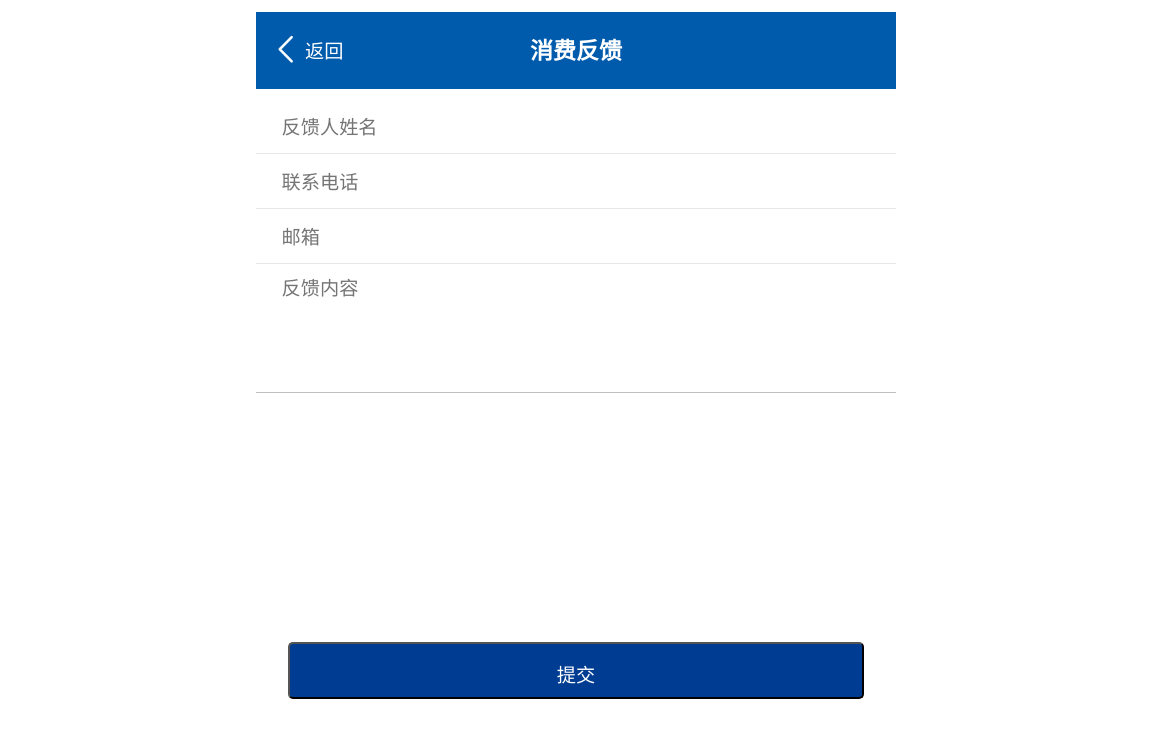
FeedbackPage › opens the success dialog after a valid submit
Check: the text "反馈成功" is not shown
Type "张三" into the field with placeholder "反馈人姓名" at (566, 126), box x1=256 y1=98 x2=877 y2=153
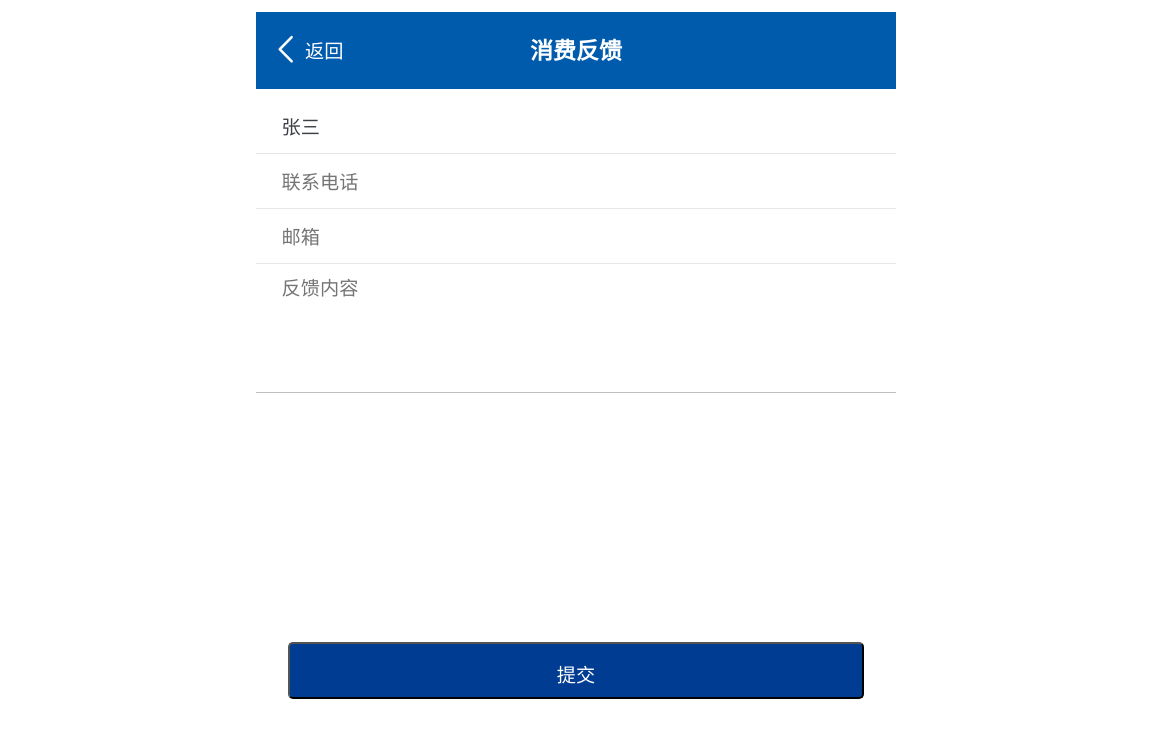
Type "13800000000" into the field with placeholder "联系电话" at (566, 181), box x1=256 y1=153 x2=877 y2=208
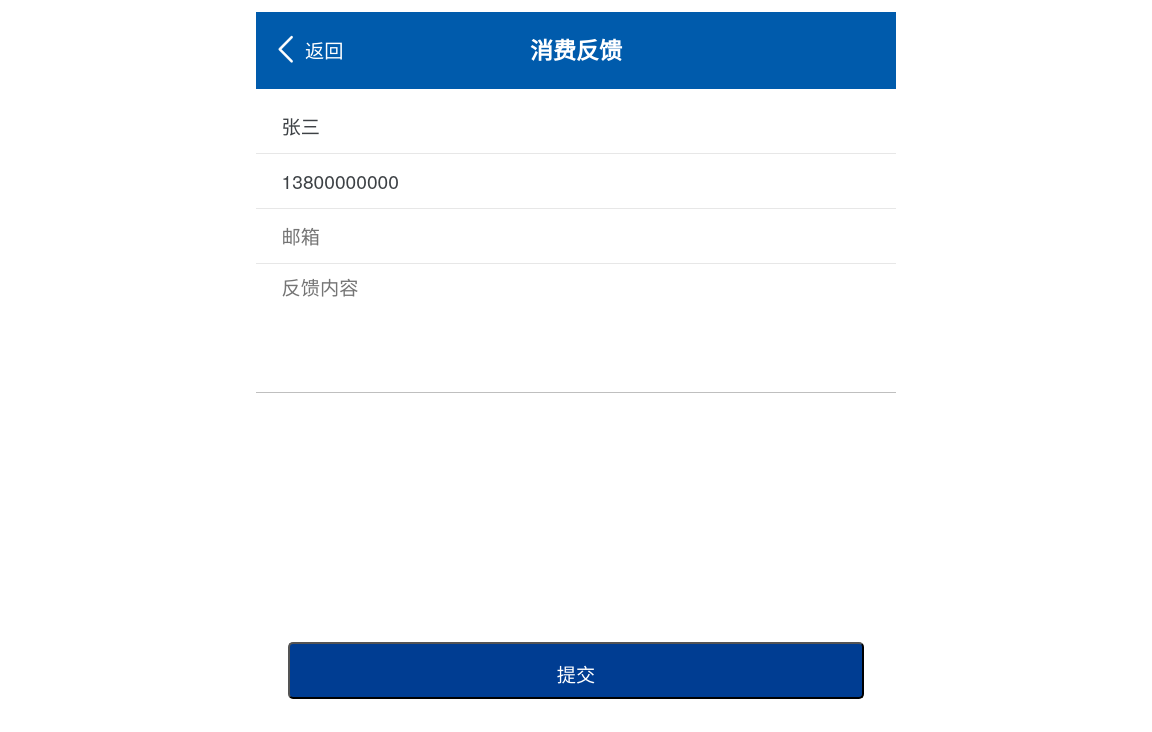
Type "user@example.com" into the field with placeholder "邮箱" at (566, 236), box x1=256 y1=208 x2=877 y2=263
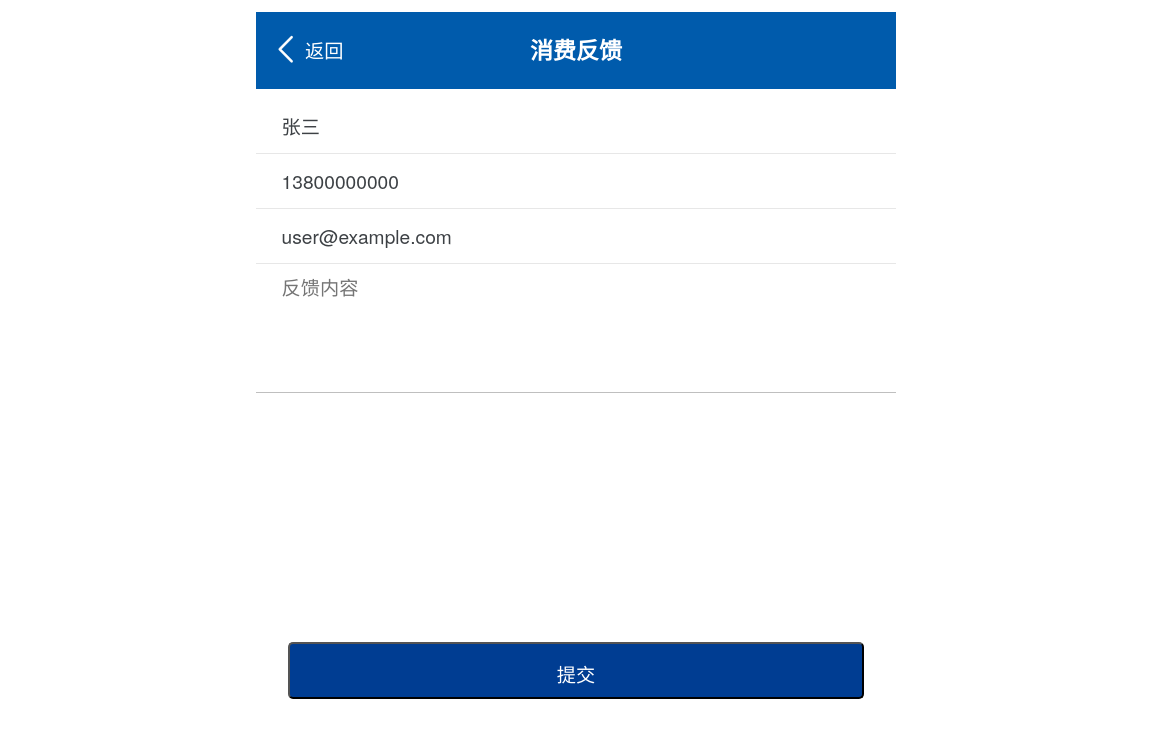
Type "已收到" into the text box with placeholder "反馈内容" at (566, 328), box x1=256 y1=264 x2=877 y2=392
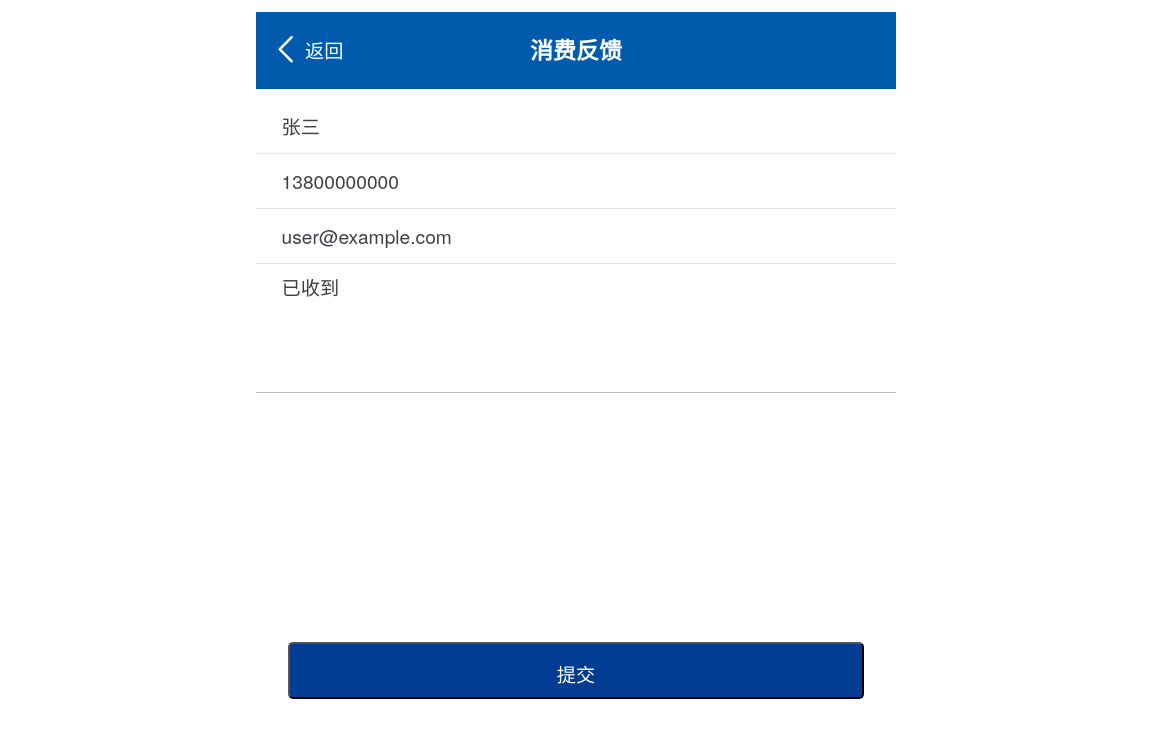
Click the button "提交" at (576, 671), box x1=288 y1=642 x2=864 y2=699
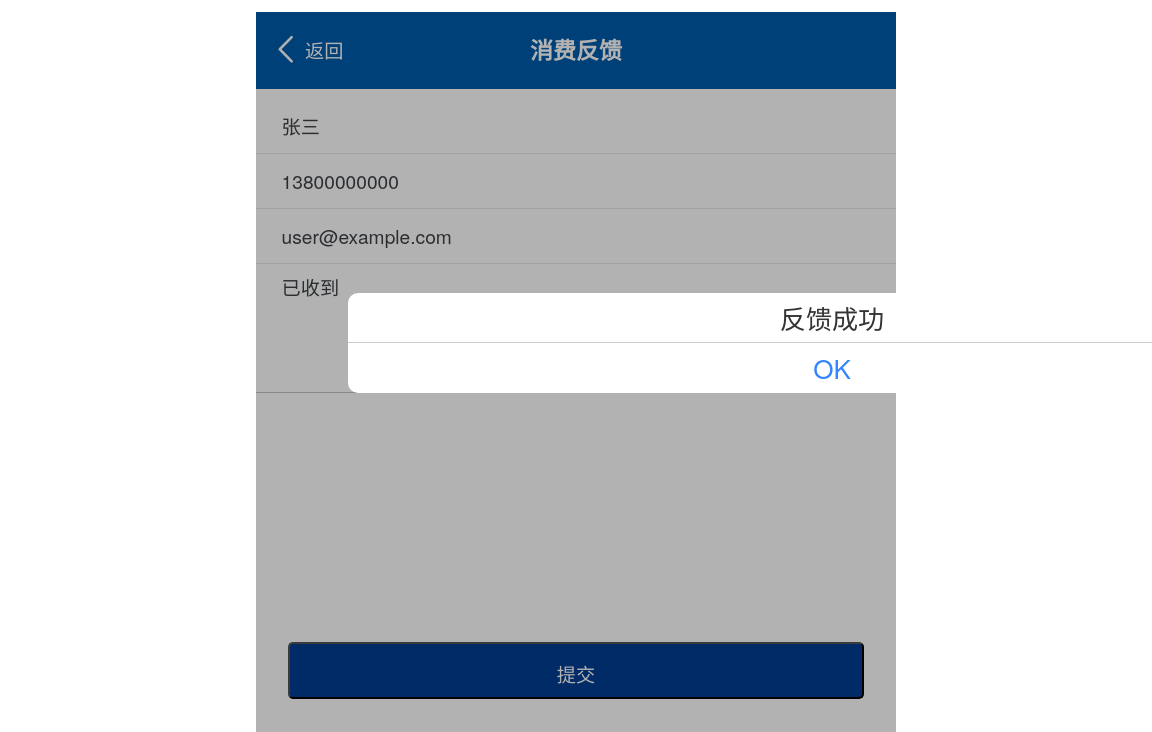
Check: the text "反馈成功" is shown, box x1=780 y1=299 x2=884 y2=336
